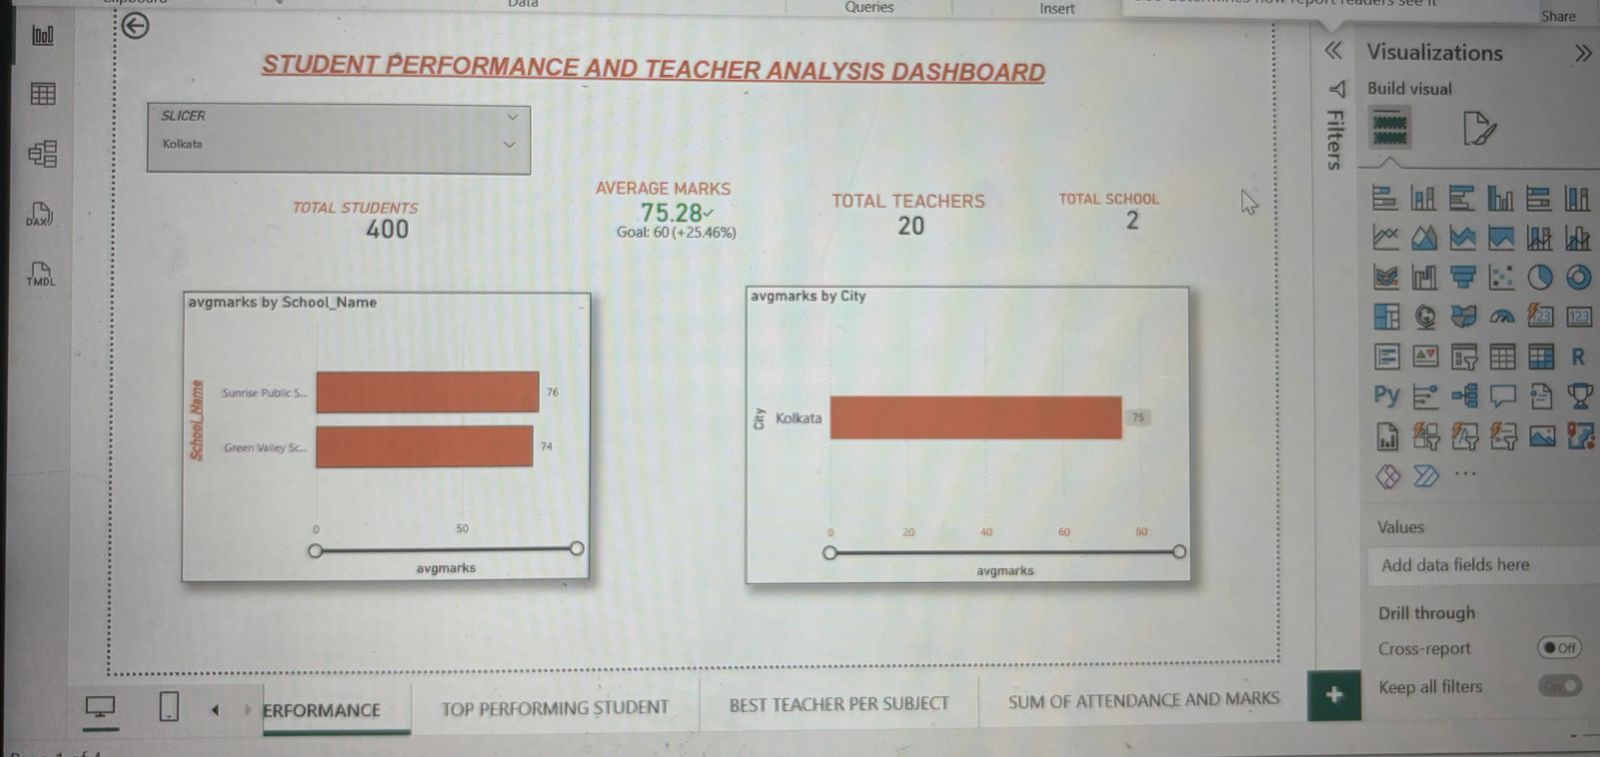

Layout of this report page (visuals, bound fields, positions):
{"tool":"powerbi","page":{"name":"OVERALL AVERAGE PERFORMANCE","canvas":[1280,720],"ordinal":0},"visuals":[{"type":"barChart","fields":{"Category":["Sheet1.School_Name"],"Y":["Sheet1.avgmarks"]},"box":[74.6,310,437.6,314],"z":0},{"type":"actionButton","box":[0,0,100,40],"z":1000},{"type":"barChart","fields":{"Category":["Sheet1.City"],"Y":["Sheet1.avgmarks"]},"box":[683.3,301.2,498.7,330.3],"z":2000},{"type":"slicer","fields":{"Values":["Sheet1.City","Sheet1.School_Name","Sheet1.Teacher_Name"]},"box":[34,103.6,412.9,76.1],"z":3000},{"type":"kpi","title":"TOTAL STUDENTS","fields":{"Indicator":["Sheet1.Total students"],"TrendLine":["Sheet1.YEAR"]},"box":[184.6,207.3,217,47],"z":4000},{"type":"textbox","box":[56.9,41.2,1061.6,62.8],"z":5000},{"type":"kpi","title":"AVERAGE MARKS","fields":{"Indicator":["Sheet1.avgmarks"],"TrendLine":["Sheet1.YEAR"],"Goal":["Sheet1.TARGET MARKS"]},"box":[511.7,181.4,189.4,76.1],"z":5001},{"type":"kpi","title":"TOTAL TEACHERS","fields":{"Indicator":["Sheet1.TOTTEACHER"],"TrendLine":["Sheet1.YEAR"]},"box":[774,192.7,189.4,55.1],"z":5002},{"type":"kpi","title":"TOTAL SCHOOL","fields":{"Indicator":["Sheet1.TOTSCHOOL"],"TrendLine":["Sheet1.YEAR"]},"box":[1029.8,192.7,176.5,47],"z":5003}]}

Visuals, with their boxes on the page's 1280x720 design canvas (x1, y1, x2, y2). These are canvas units, not pixel positions in the 1600x757 screenshot, which may show the page scaled, cropped or inside an application window:
barChart - Sheet1.School_Name x Sheet1.avgmarks: [left=75, top=310, right=512, bottom=624]
actionButton: [left=0, top=0, right=100, bottom=40]
barChart - Sheet1.City x Sheet1.avgmarks: [left=683, top=301, right=1182, bottom=632]
slicer - Sheet1.City x Sheet1.School_Name: [left=34, top=104, right=447, bottom=180]
"TOTAL STUDENTS" kpi: [left=185, top=207, right=402, bottom=254]
textbox: [left=57, top=41, right=1118, bottom=104]
"AVERAGE MARKS" kpi: [left=512, top=181, right=701, bottom=258]
"TOTAL TEACHERS" kpi: [left=774, top=193, right=963, bottom=248]
"TOTAL SCHOOL" kpi: [left=1030, top=193, right=1206, bottom=240]
